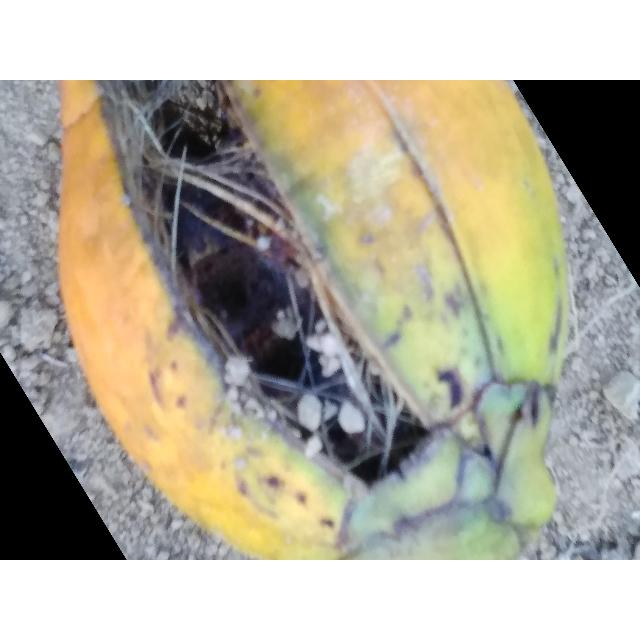damaged: (59, 80, 572, 560)
